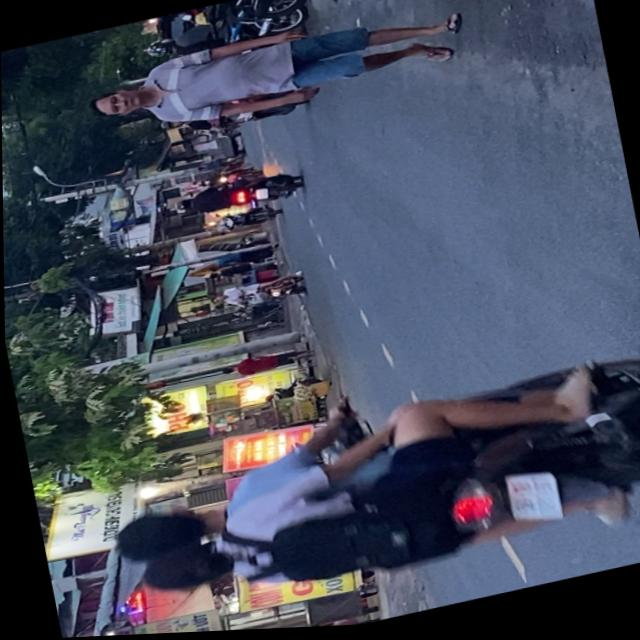licenseplate: (91, 345, 640, 637)
motorcyclist: (105, 497, 229, 572), (122, 538, 243, 607)
nohelmet: (502, 473, 558, 533)
